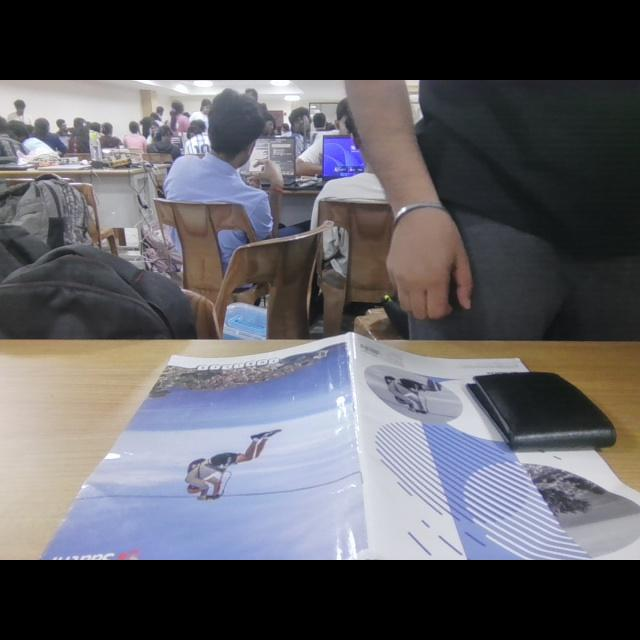wallet: (464, 370, 620, 468)
